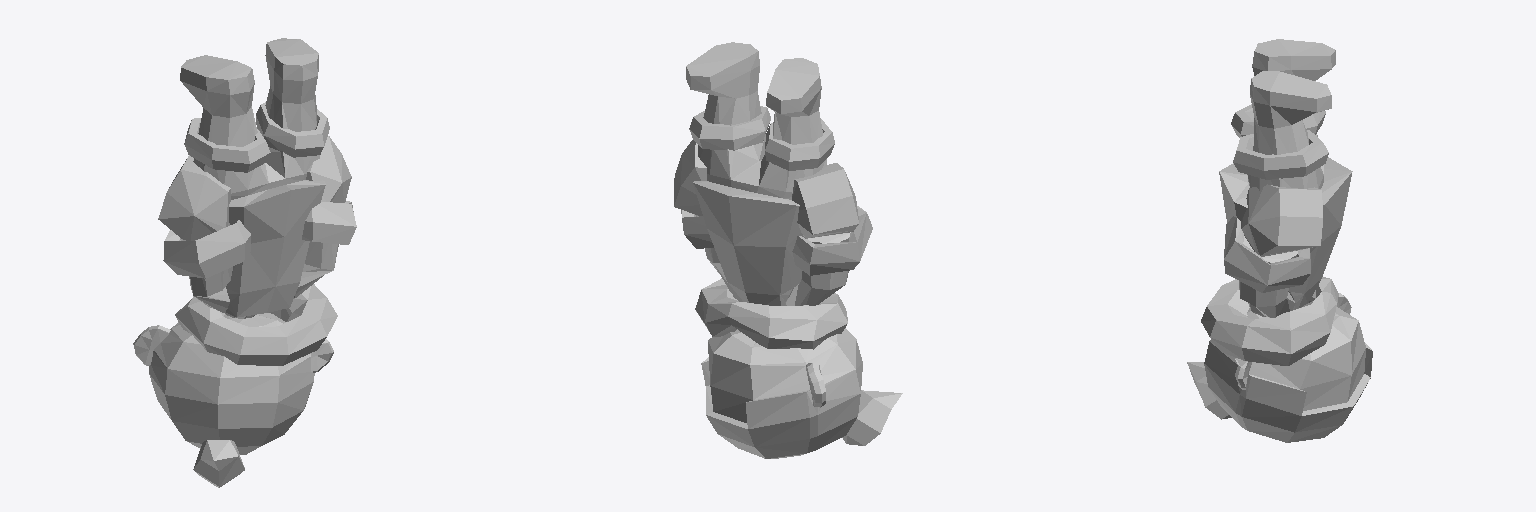
The model's file is eikastanding_000220.obj.
3 views of the same model, side by side, from view 1: azimuth 30°, elevation 25°; view 2: azimuth 150°, elevation 25°; view 3: azimuth 270°, elevation 25° (orthographic).
Parts seen in each view (by area): view 1: Cylinder; view 2: Cylinder; view 3: Cylinder.
Part boxes in pixels (left/top/right/bottom): Cylinder: left=133, top=38, right=356, bottom=487; Cylinder: left=674, top=42, right=902, bottom=458; Cylinder: left=1187, top=39, right=1372, bottom=442.
Bounding box in the file's own units: 26.41 × 51.88 × 22.48.